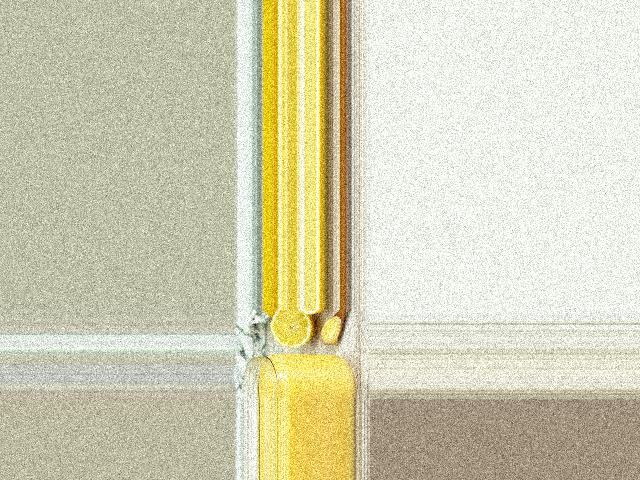lemon: (269, 311, 313, 347)
